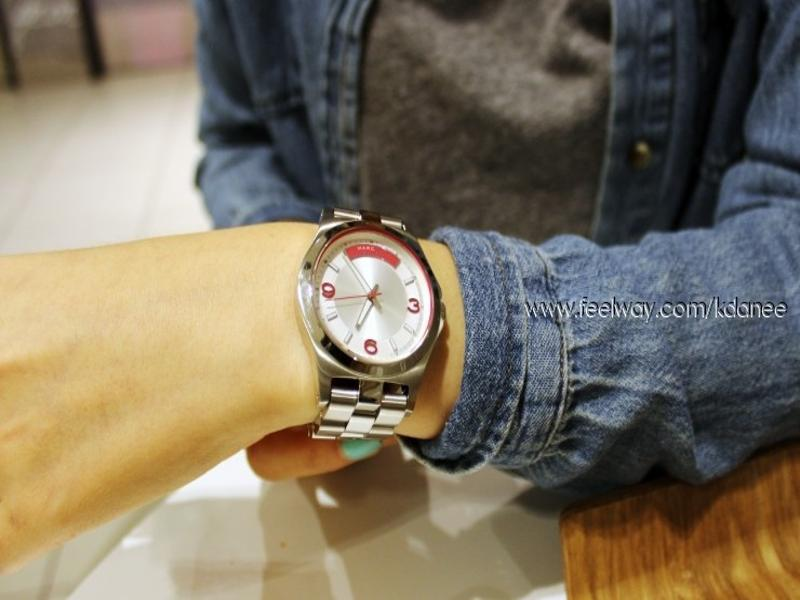watch: (295, 208, 448, 442)
